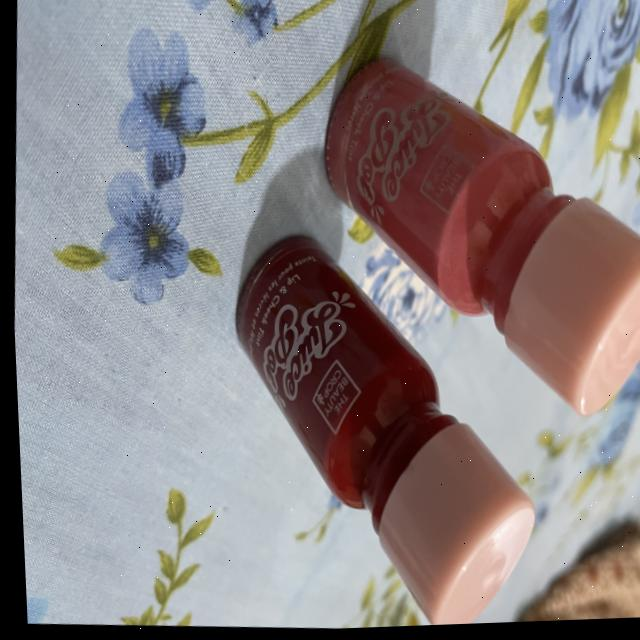Tint: (203, 210, 564, 634), (303, 43, 640, 444)
